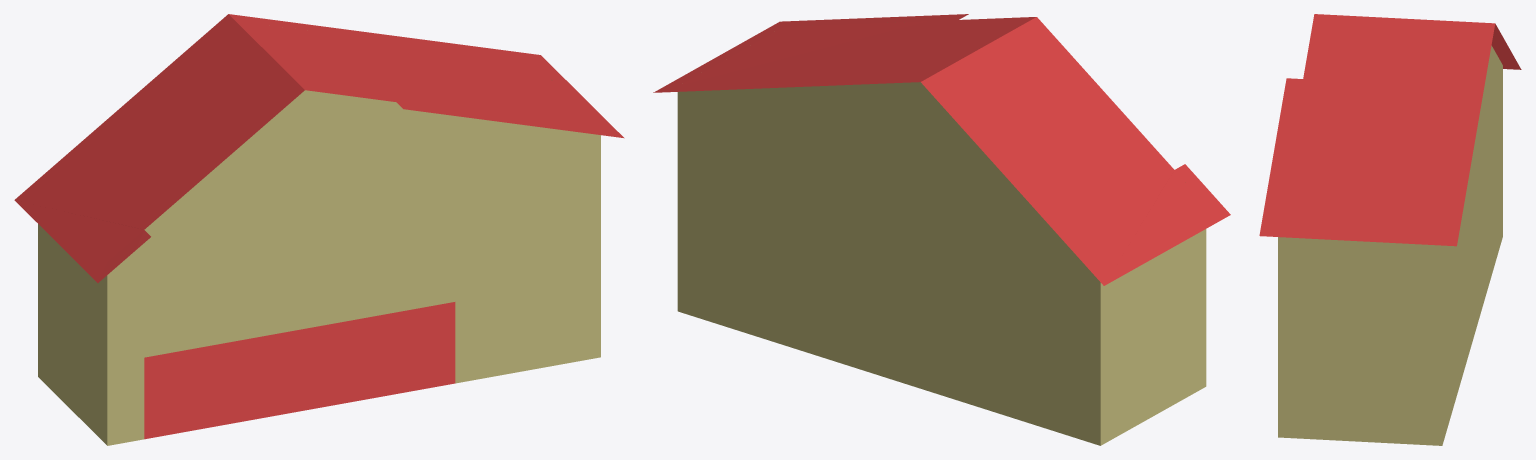
3 renders of one model, left to right at view 1: azimuth 30°, elevation 25°; view 2: azimuth 150°, elevation 25°; view 3: azimuth 270°, elevation 25°, orthographic. The views are drawn at different scales.
Size of the model in its own units: 16.53 by 7.84 by 9.84.
